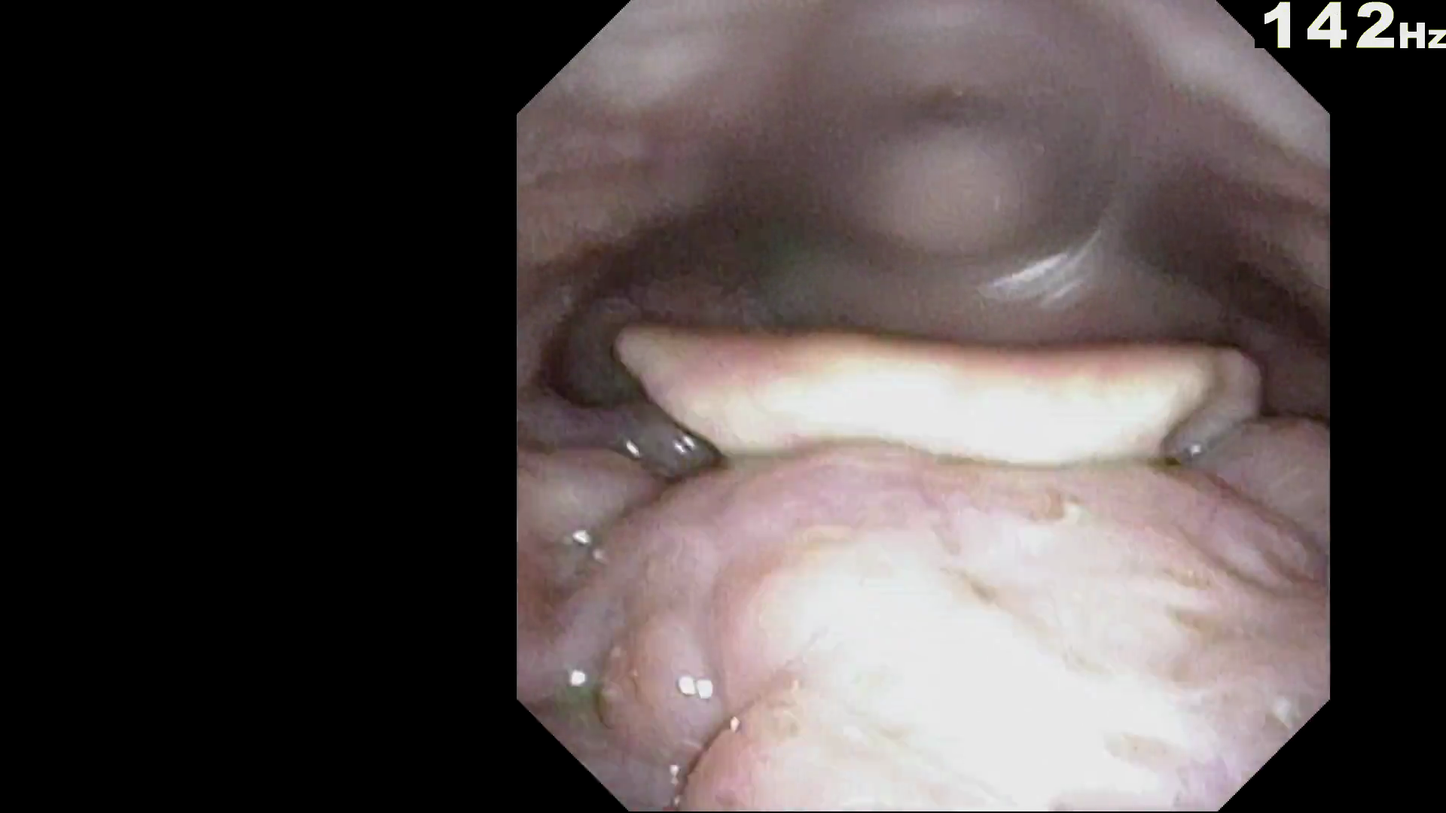epiglottis: (632, 356, 1248, 580)
